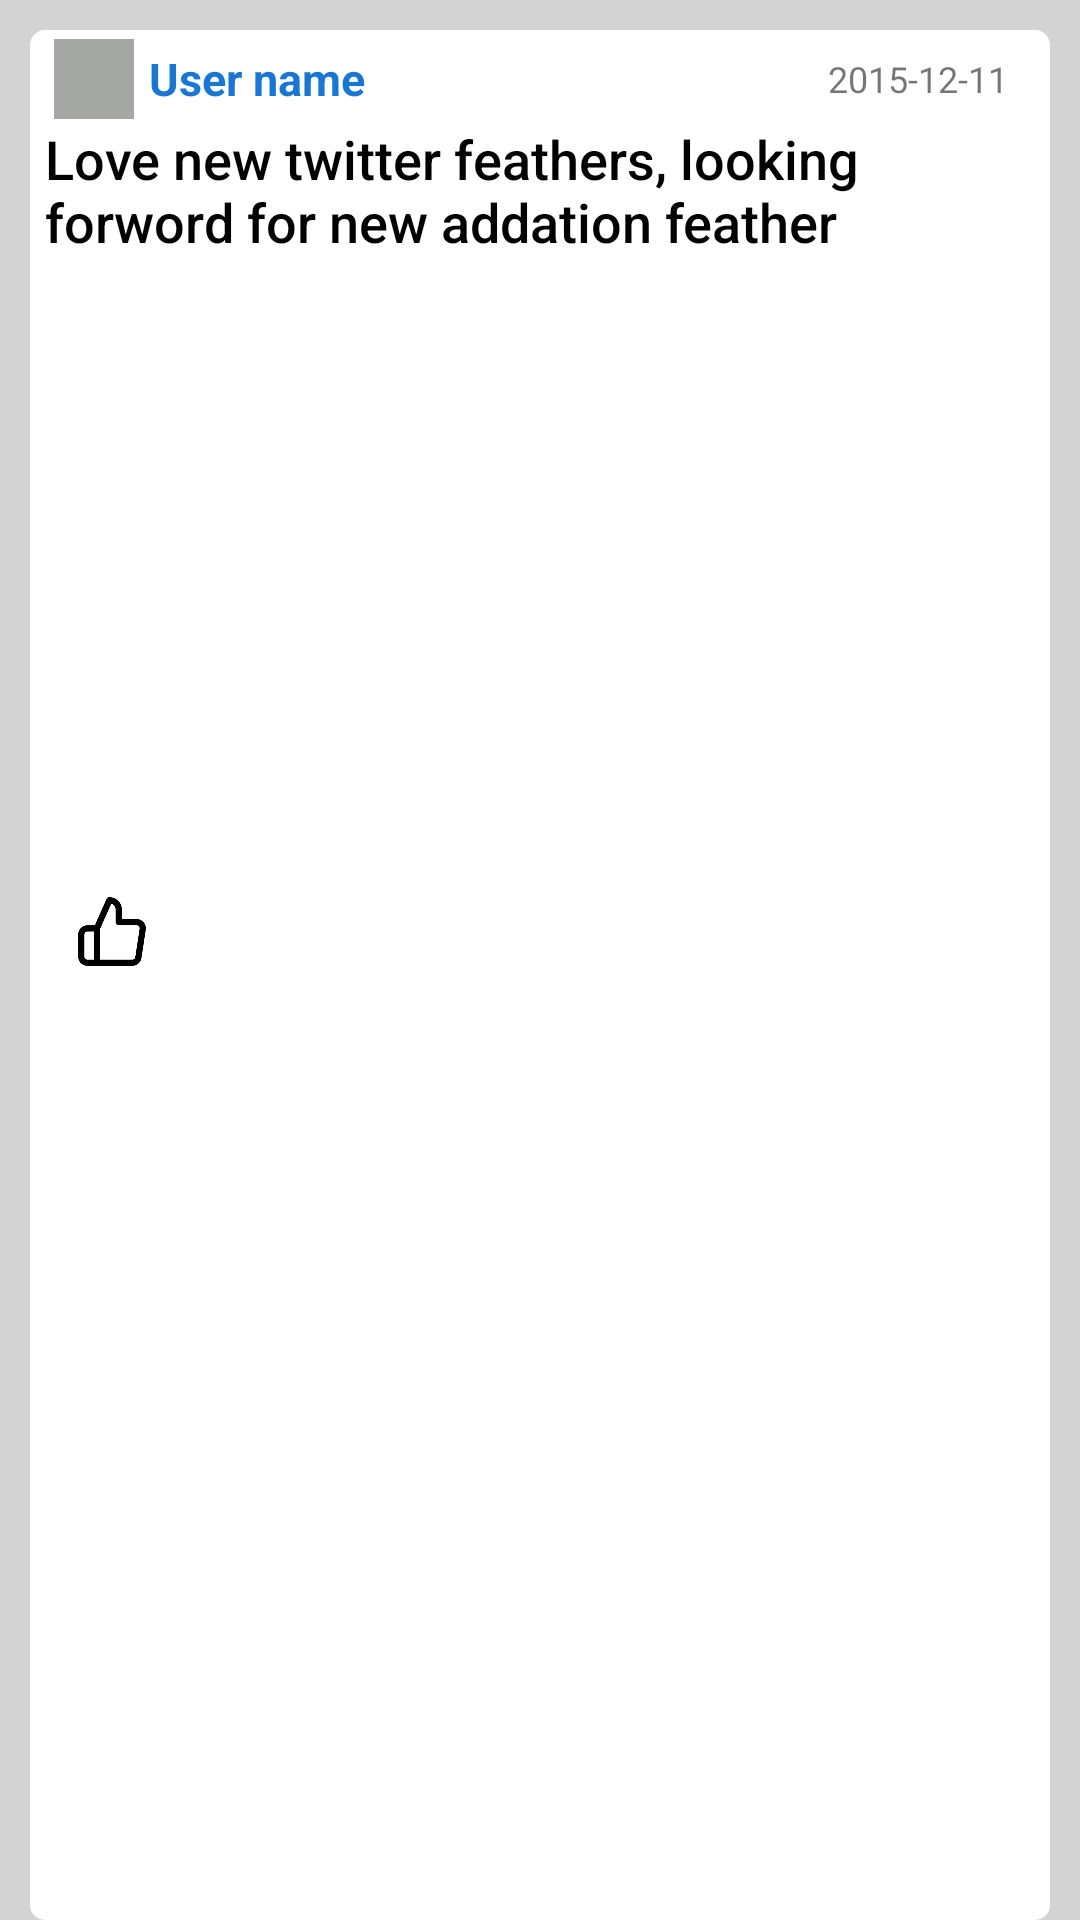

Icon click points for this 1080px×1920px phone screenshot, format (x=x, y=y):
like: (x=112, y=931)
